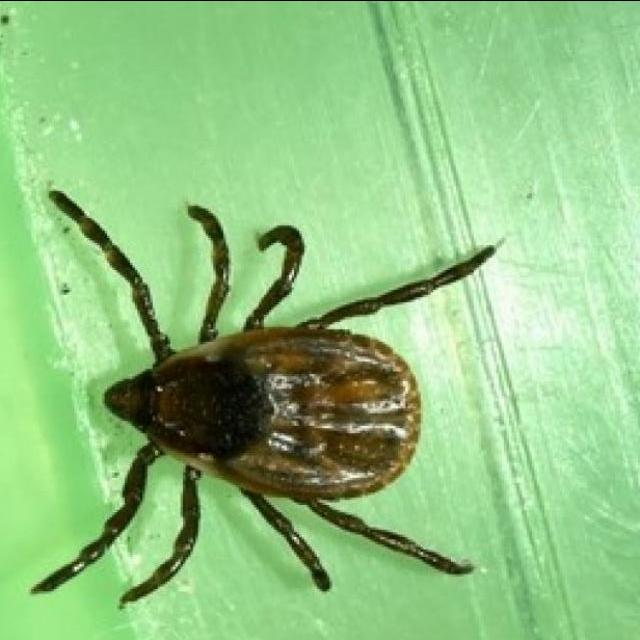Rhipicephalus Sanguineus-F: (34, 190, 494, 605)
